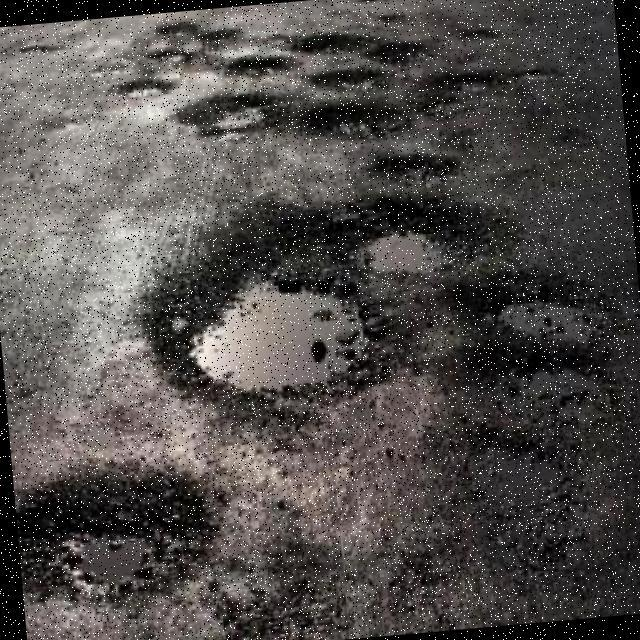Pothole: (15, 463, 212, 604), (188, 283, 365, 393), (492, 289, 613, 357), (172, 93, 278, 140), (360, 233, 456, 276), (297, 105, 414, 138), (371, 154, 461, 193)
